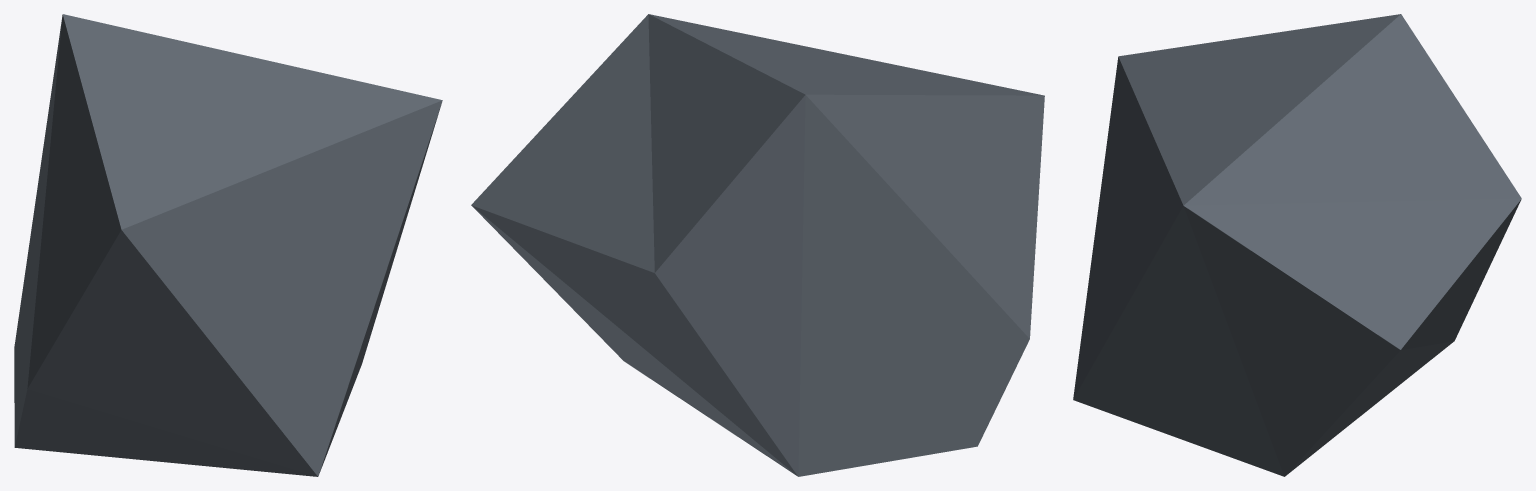
The model's file is Rock-C13.fbx.
3 views of the same model, side by side, from view 1: azimuth 30°, elevation 25°; view 2: azimuth 150°, elevation 25°; view 3: azimuth 270°, elevation 25° (orthographic). The views are drawn at different scales.
Visible parts, largest first — view 1: Rock-C13; view 2: Rock-C13; view 3: Rock-C13.
Boxes of the visible parts, box(x1,y1,x2,y2) form: Rock-C13: box(14, 14, 442, 476); Rock-C13: box(471, 14, 1044, 476); Rock-C13: box(1073, 14, 1521, 476).
Size of the model in its own units: 33.82 by 25.79 by 29.91.
